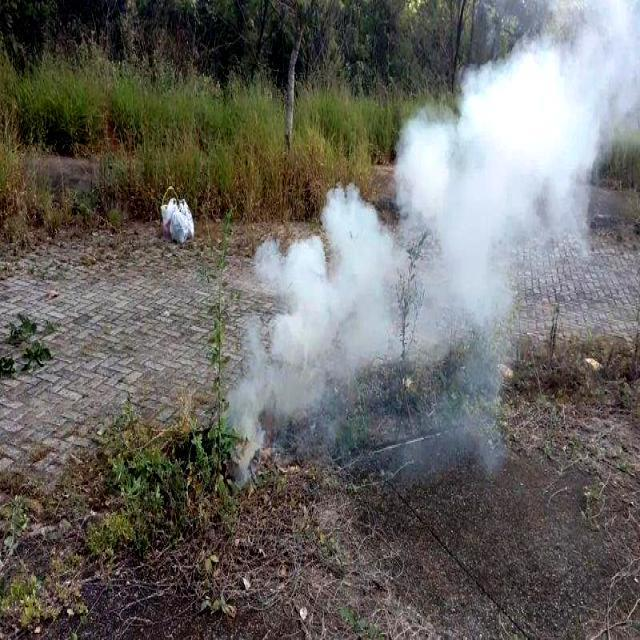Smoke: (413, 2, 640, 380), (237, 178, 405, 459)
